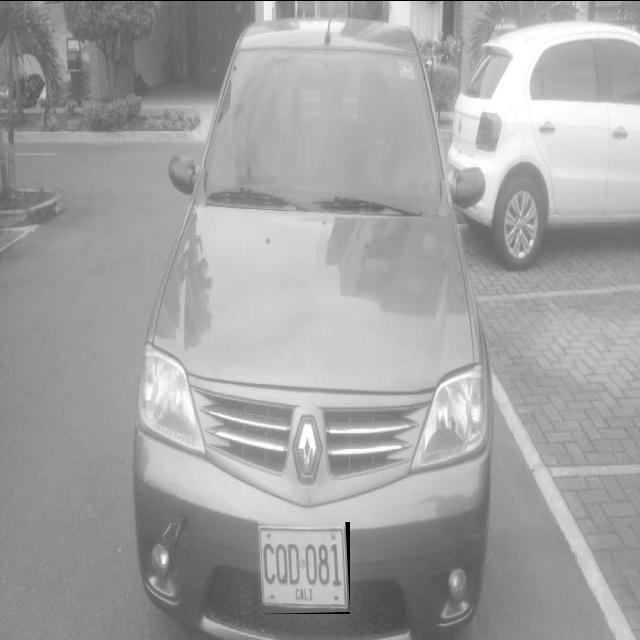plate: (258, 521, 350, 613)
